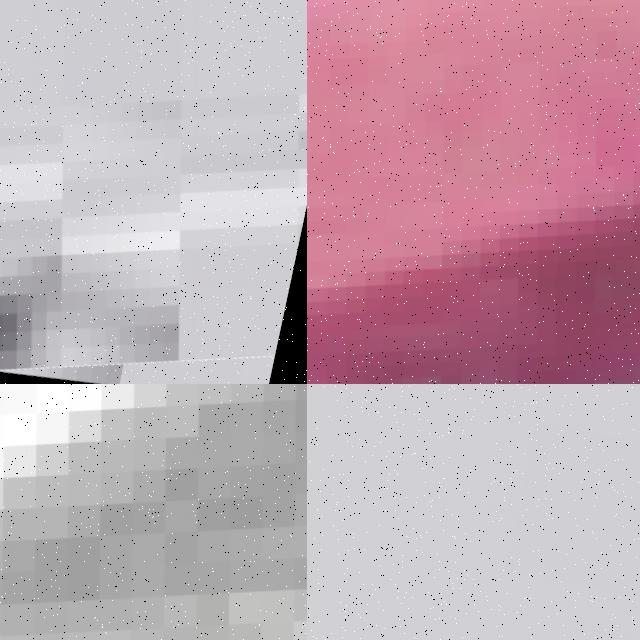drone: (307, 0, 640, 384), (0, 0, 307, 384), (0, 384, 307, 640)
